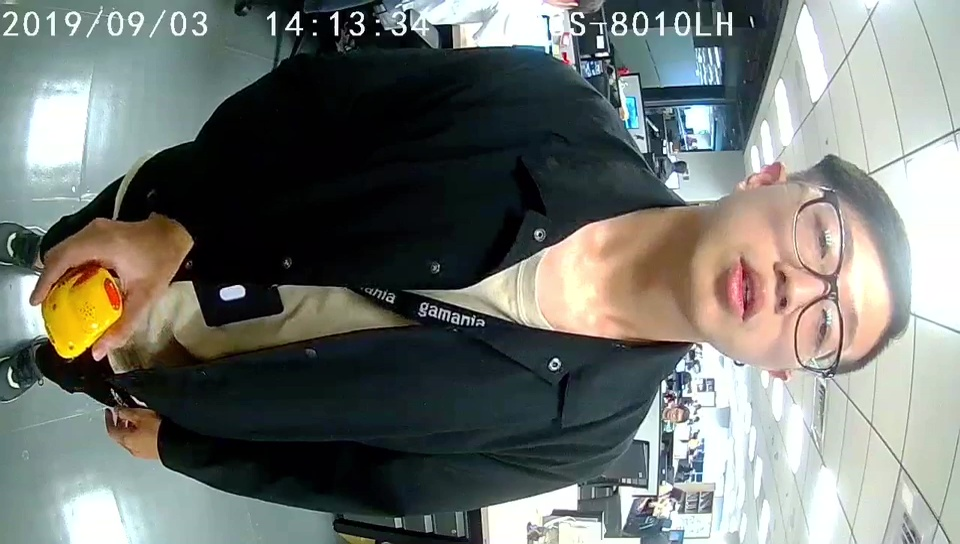car: (42, 262, 123, 360)
